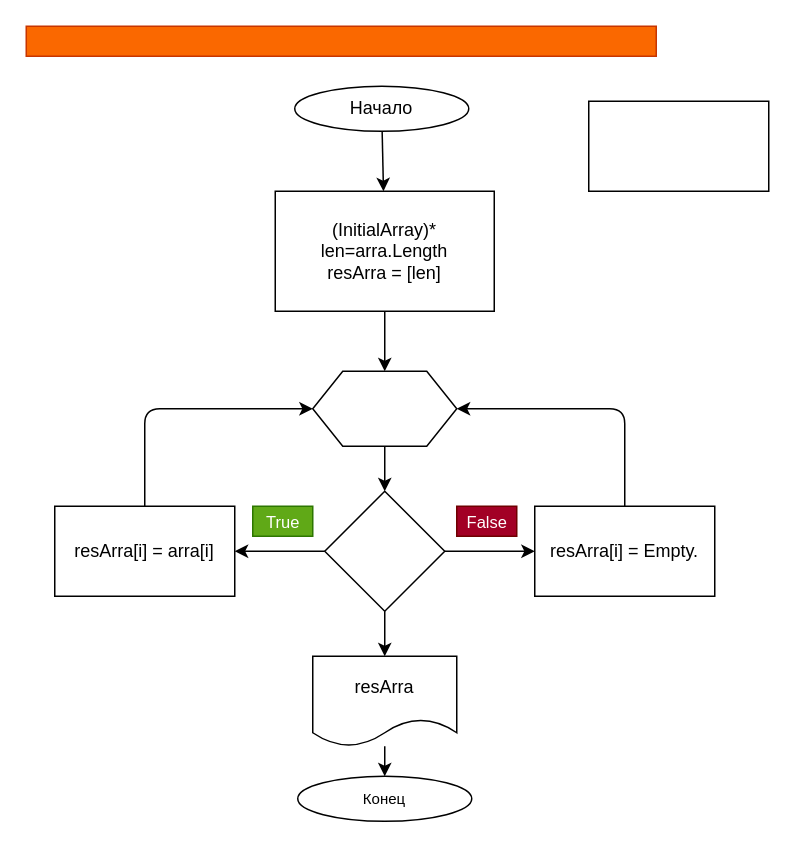
Image size: 795x848. Some labels were removed from this diagram. Each missing label, with the centre of its shape:
*InitialArray Создать массив из 4 символов: (x=678, y=145)
arra[i] <= num: (x=384, y=550)
i = 0 i < len i ++: (x=384, y=408)
Блок-схема описывает работу основного метода "MakeNewArray": (x=340, y=40)
